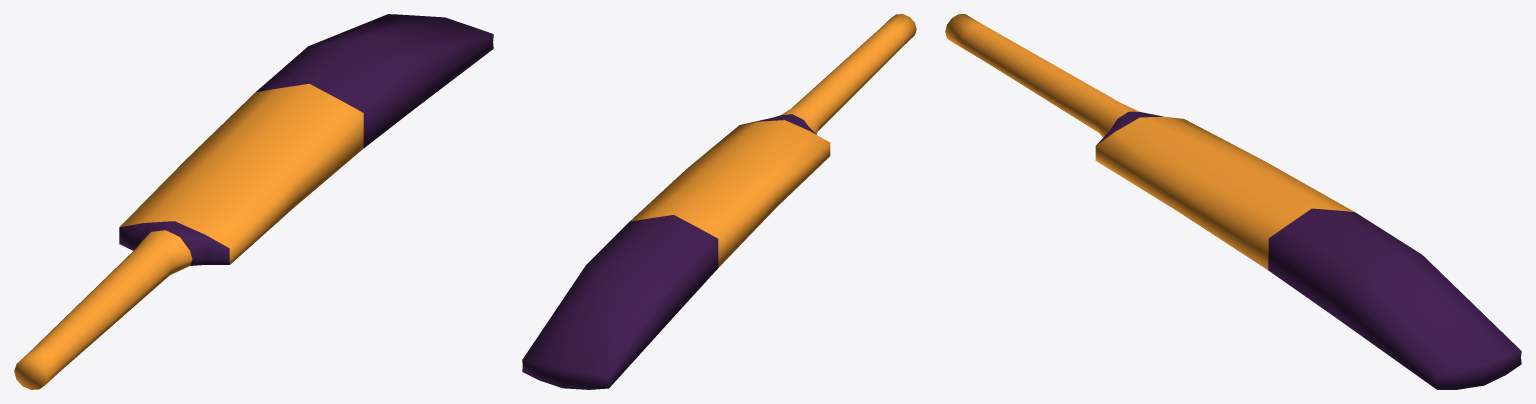
Rendered from ToyObject_132.fbx.
3 renders of one model, left to right at view 1: azimuth 30°, elevation 25°; view 2: azimuth 210°, elevation 25°; view 3: azimuth 270°, elevation 25°, orthographic. The views are drawn at different scales.
Visible parts, largest first — view 1: 1.005; view 2: 1.005; view 3: 1.005.
Boxes of the visible parts, x1,y1,x2,y2 form: 1.005: (14,14,493,389); 1.005: (522,14,916,389); 1.005: (945,14,1521,389).
Size of the model in its own units: 0.3033 by 0.0332 by 0.2282.
